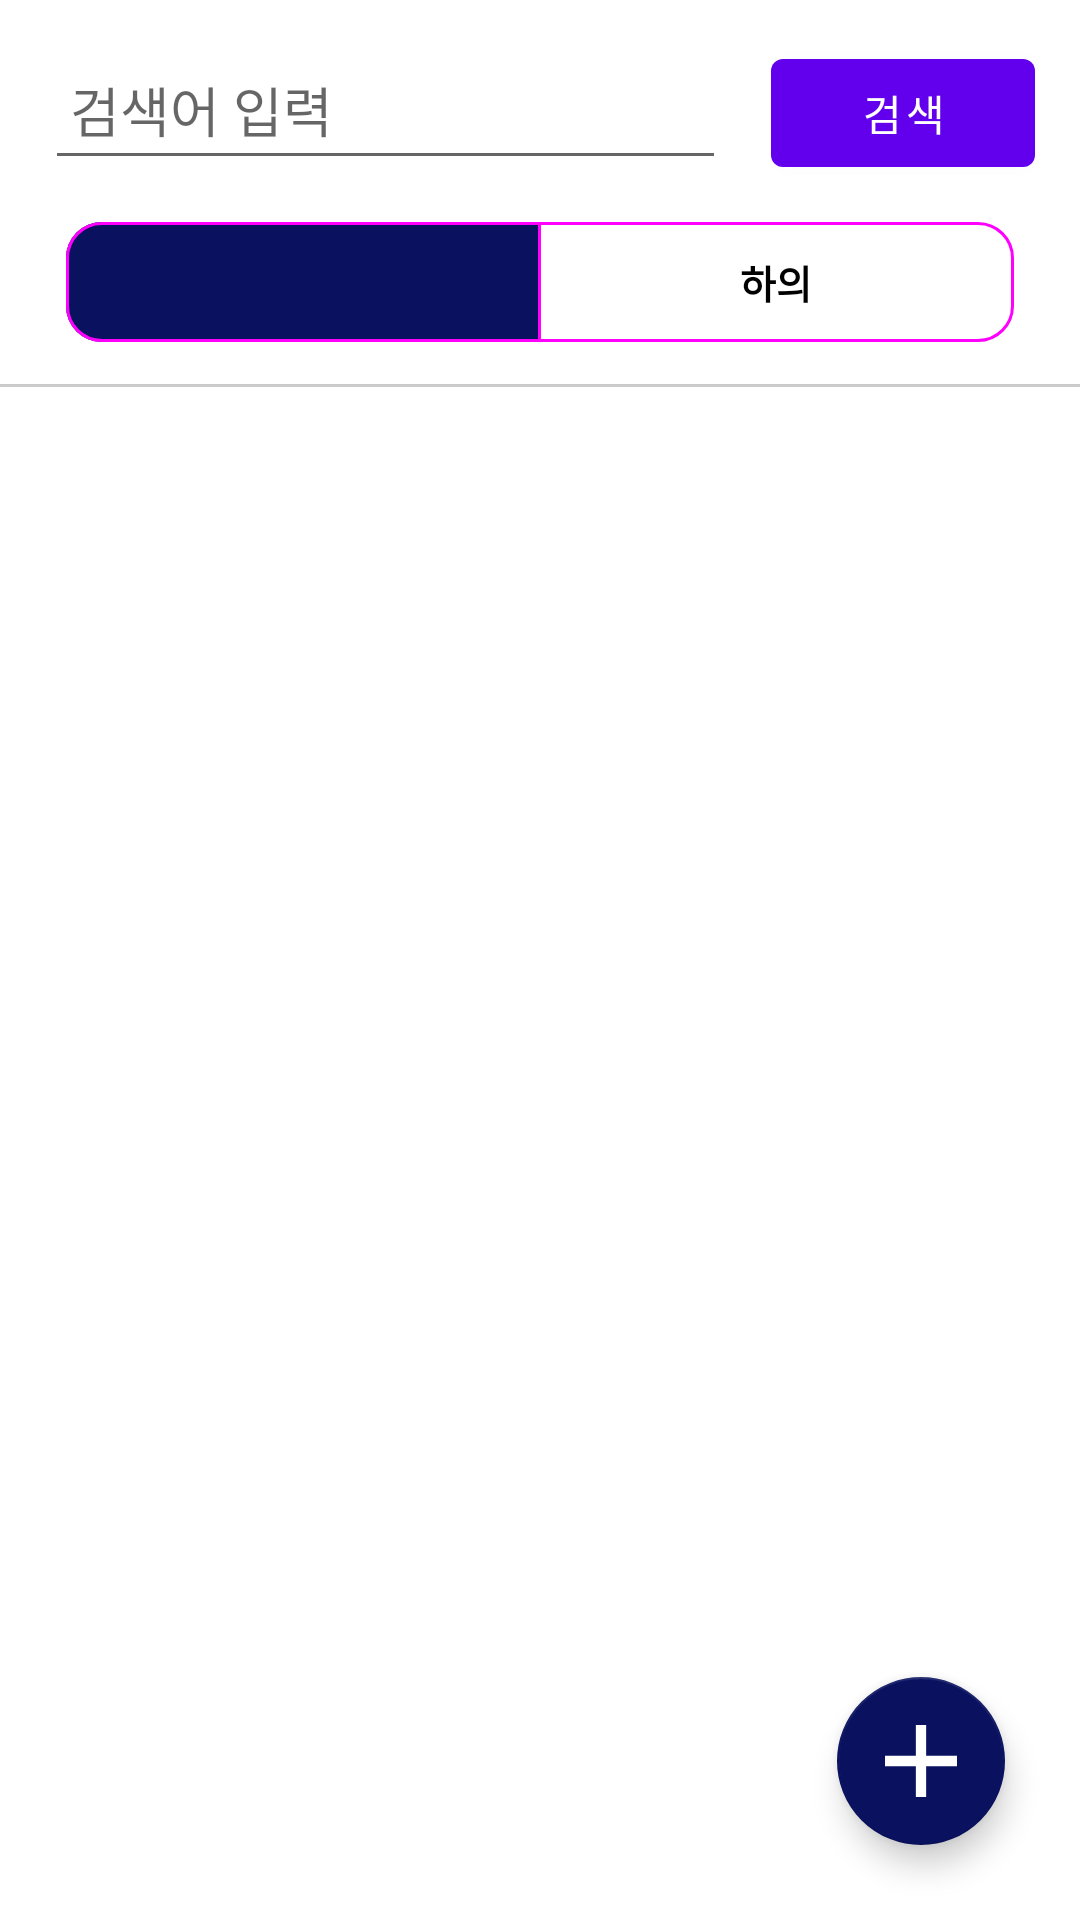

Screen size 1080 × 1920. Icon name, then its center in pixels as point (x, y):
fab: point (921, 1761)
